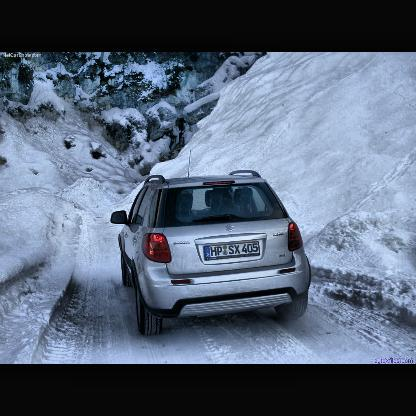Suzuki SX4 Hatchback 2012: (110, 148, 315, 340)
